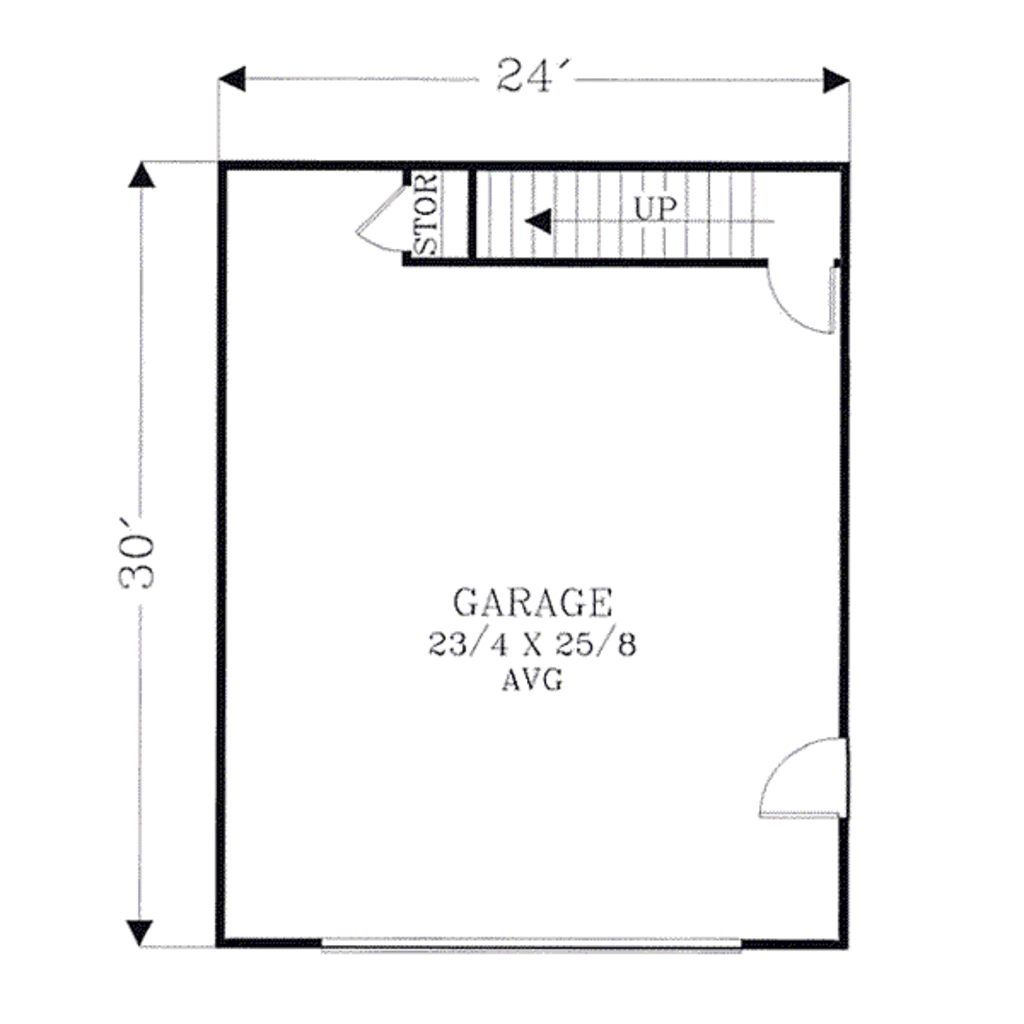door: (748, 733, 856, 816), (348, 174, 417, 264), (769, 258, 839, 336)
stairs: (414, 177, 775, 266)
